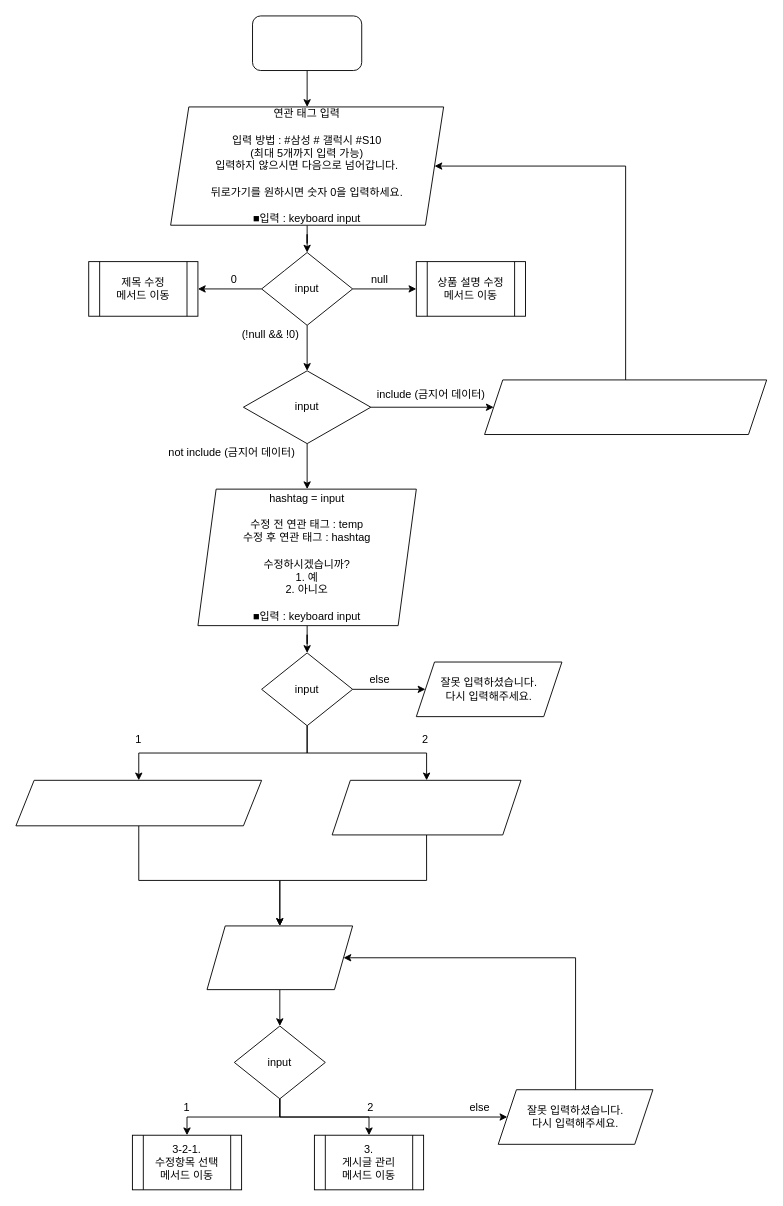
Some shapes in this 783 by 1206 pixel diagram are drawn without their labels. The centre of each missing label's shape, as x and y in pixels:
"1. 추가 수정하기 2. 나가기 ■입력 : keyboard input" belongs at point (279, 957).
"hashtag = temp 수정이 취소되었습니다." belongs at point (426, 807).
"연관 태그 수정 메서드 진입" belongs at point (307, 43).
"연관 태그에 금지어 (금지어데이터) 입력되었습니다. 다시 입력해주세요." belongs at point (625, 407).
"연관태그가 hashtag 수정되었습니다." belongs at point (138, 802).
